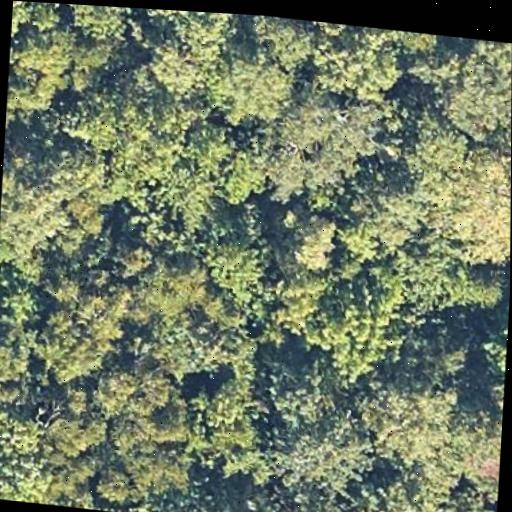tree-top: (120, 241, 269, 392), (271, 252, 418, 389), (0, 127, 111, 286), (253, 377, 385, 497), (411, 125, 511, 262), (27, 265, 136, 390), (264, 88, 374, 209), (350, 365, 467, 477), (89, 73, 183, 203), (91, 354, 197, 464), (310, 21, 410, 118), (199, 43, 299, 136), (185, 366, 261, 487), (7, 26, 109, 112), (430, 35, 512, 138), (363, 458, 499, 512), (348, 175, 432, 259), (0, 397, 64, 506), (270, 197, 351, 277), (226, 468, 352, 512), (141, 8, 238, 62), (0, 272, 40, 393), (206, 224, 265, 304), (249, 15, 325, 72), (161, 162, 215, 235), (59, 3, 143, 47), (11, 1, 44, 34)
